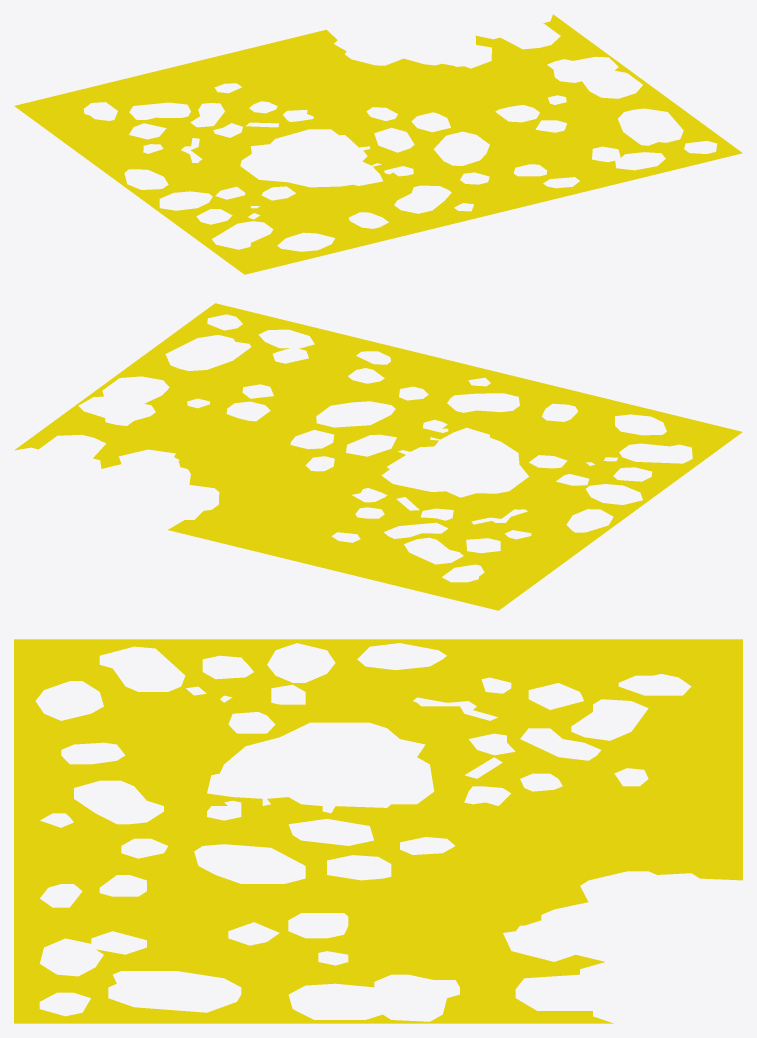
Rendered from navMesh.glb.
3 renders of one model, top to bottom at view 1: azimuth 30°, elevation 25°; view 2: azimuth 150°, elevation 25°; view 3: azimuth 270°, elevation 25°, orthographic. The views are drawn at different scales.
Parts seen in each view (by area): view 1: Navmesh; view 2: Navmesh; view 3: Navmesh.
Part boxes in pixels (<box>): Navmesh: <box>14,14,742,274</box>; Navmesh: <box>14,303,742,610</box>; Navmesh: <box>14,639,742,1023</box>.
Size of the model in its own units: 63.6 by 0 by 51.
